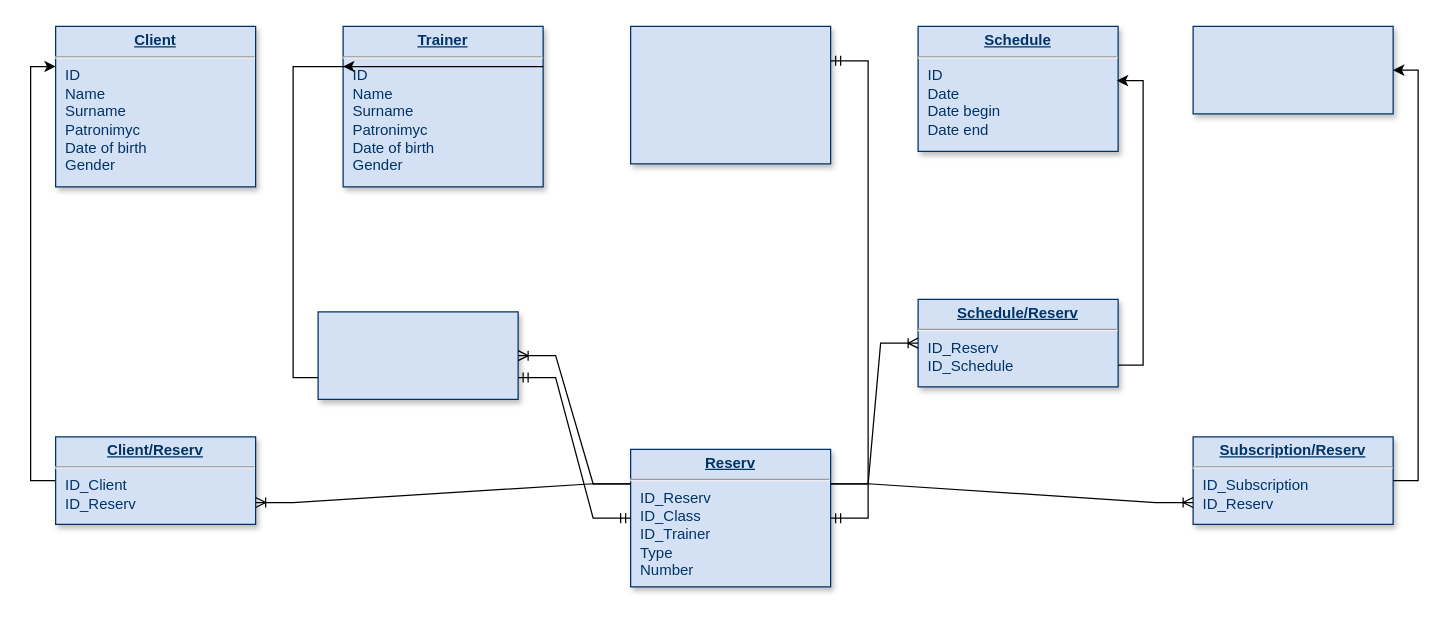
Some shapes in this 1450 by 619 pixel diagram are drawn without their labels. The shapes that lost their labels are listed below. From the top down, each one's centre as x and y in pixels, then its label:
At point 1294,71: "Subscription ID Name".
At point 731,96: "Class ID Name Time Cost Max number".
At point 419,357: "Trainer/Reserv ID_Reserv ID_Trainer".
